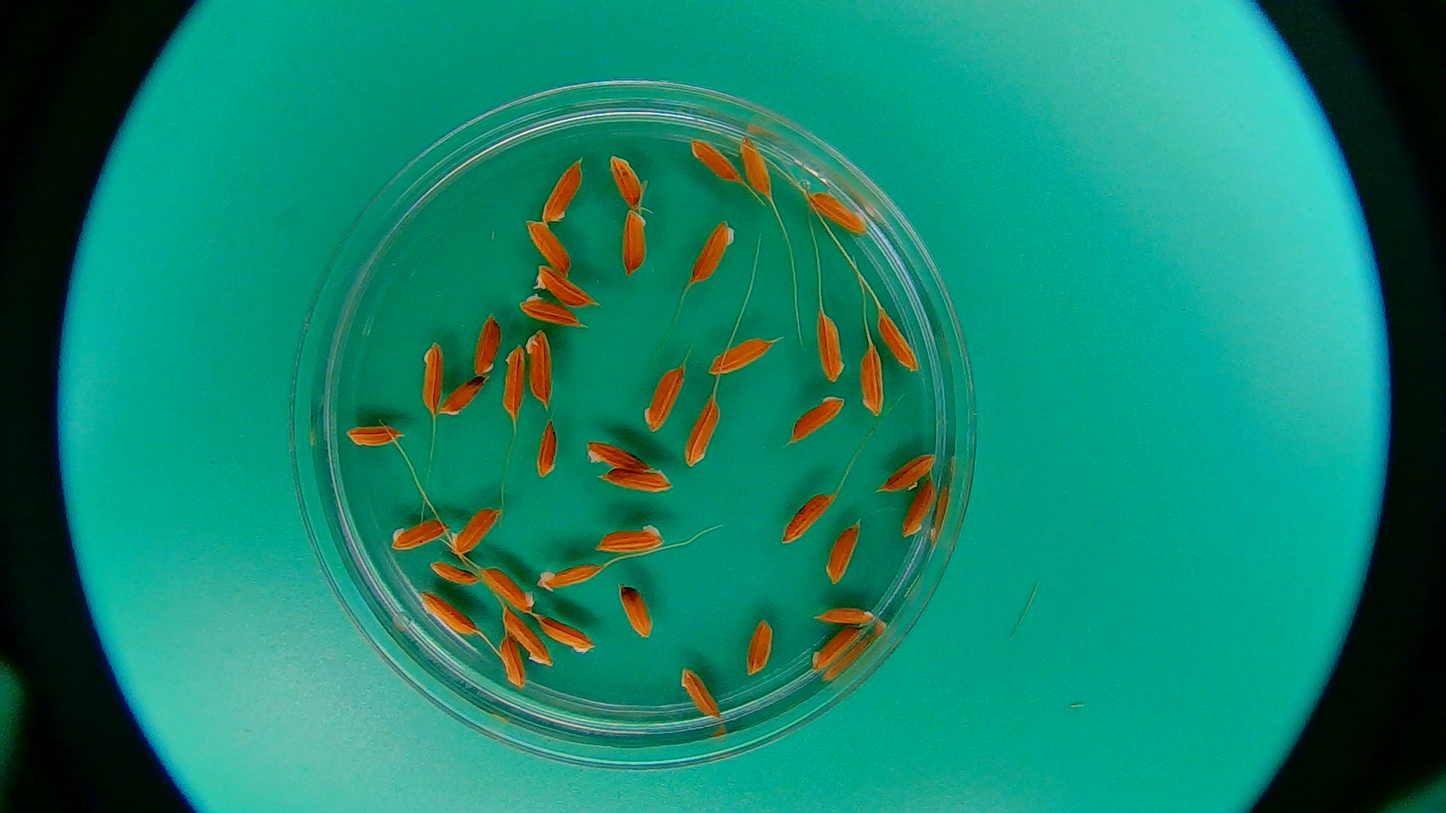no: (688, 218, 737, 286), (522, 218, 576, 279), (502, 603, 552, 668), (587, 519, 668, 559), (416, 587, 477, 639), (807, 623, 866, 676), (590, 465, 675, 501), (525, 419, 569, 484), (538, 160, 584, 222), (645, 364, 688, 430), (517, 291, 589, 330), (581, 434, 653, 473), (807, 195, 869, 240), (482, 565, 539, 613), (880, 306, 921, 372), (450, 507, 499, 557), (618, 206, 654, 274), (606, 154, 645, 216), (813, 313, 847, 384), (786, 493, 834, 543), (692, 137, 742, 185), (791, 395, 844, 440), (523, 329, 555, 403), (676, 668, 721, 720), (822, 521, 859, 583), (387, 517, 446, 555), (684, 399, 717, 466), (709, 338, 767, 376), (540, 612, 590, 656), (440, 373, 491, 415), (740, 134, 773, 198), (901, 478, 935, 540), (859, 343, 886, 419), (499, 344, 527, 416), (419, 336, 444, 416), (881, 455, 935, 492), (743, 621, 776, 680), (474, 311, 504, 373), (619, 586, 654, 635), (497, 634, 527, 690), (346, 421, 400, 452), (816, 606, 880, 630), (434, 559, 477, 589)
yes: (530, 267, 595, 309), (539, 563, 596, 591)
